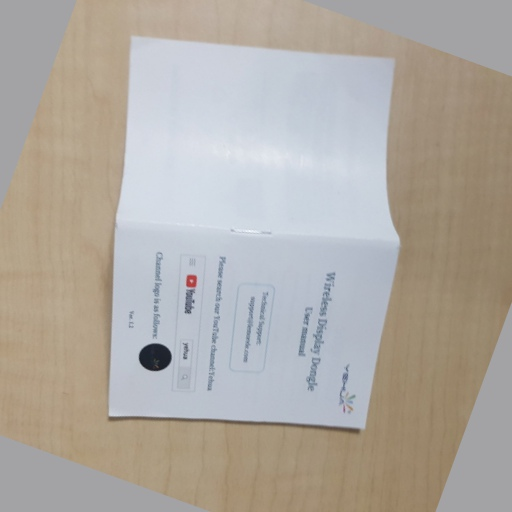Paper_0: (103, 28, 404, 444)
